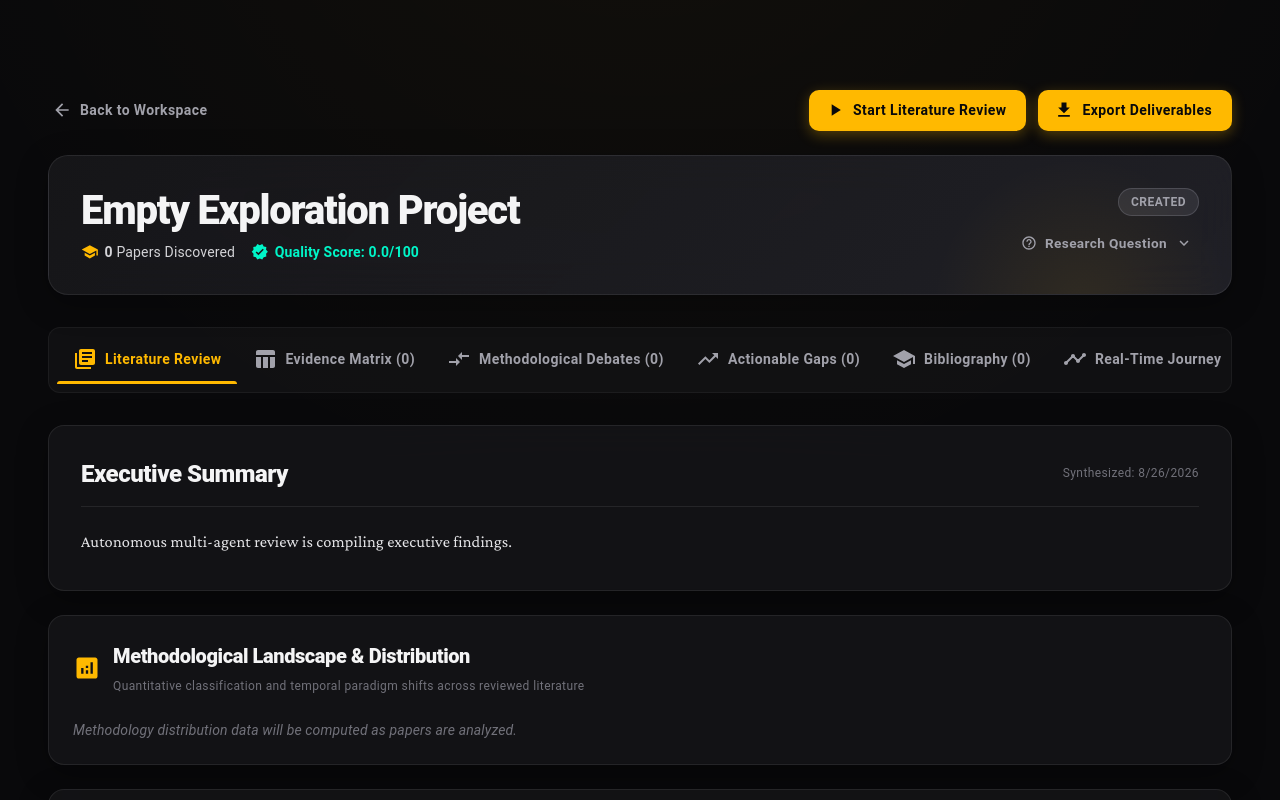
ProjectDetailsPage Empirical Challenger Test Suite › 1. Empty State Verification across all 6 Tabs › Tab 2 (Methodological Debates): displays empty debates message
The image size is (1280, 800).
Check: the heading "Empty Exploration Project" is shown, box [81,186,520,234]
Click the tab "Methodological Debates (0)" at (556, 360), box [431,336,680,384]
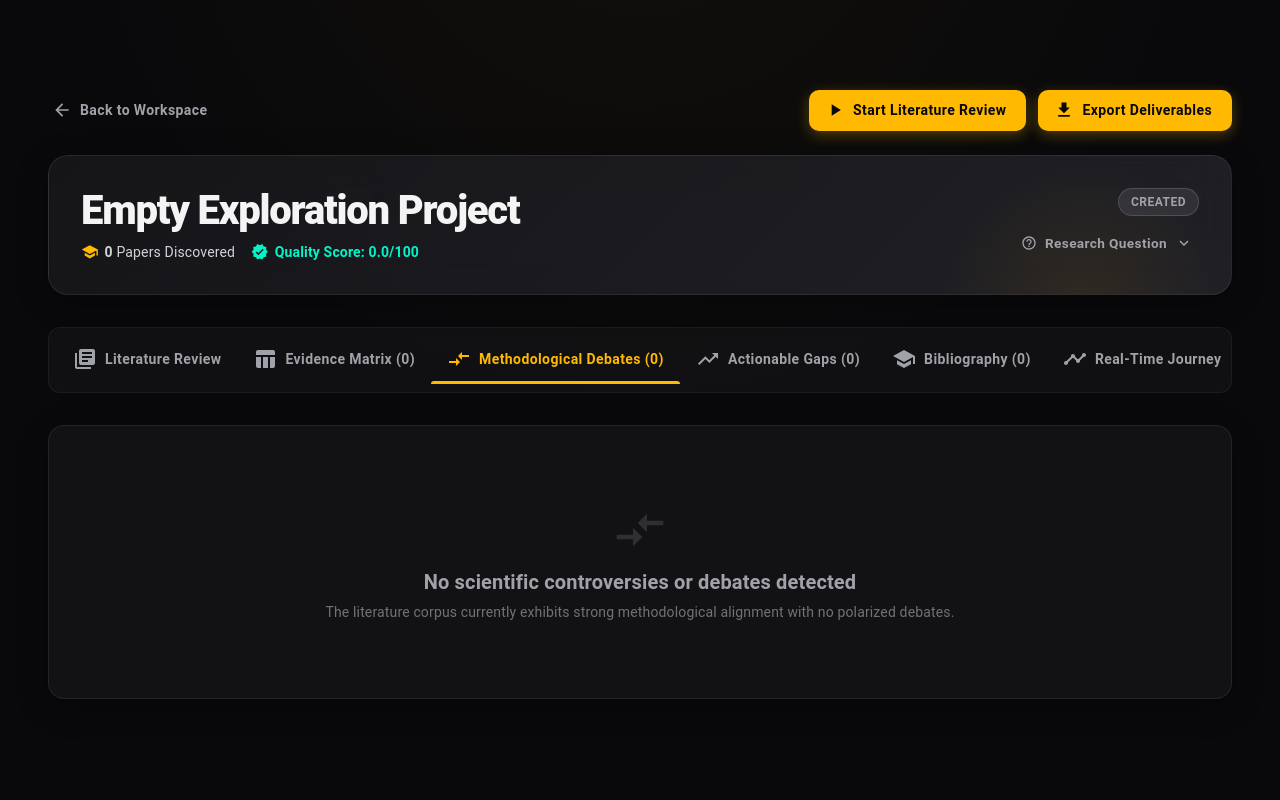
Check: the heading "No scientific controversies or debates detected" is shown, box [424,570,856,594]
Check: the text "The literature corpus currently exhibits strong methodological alignment with no polarized debates." is shown, box [326,604,954,620]
